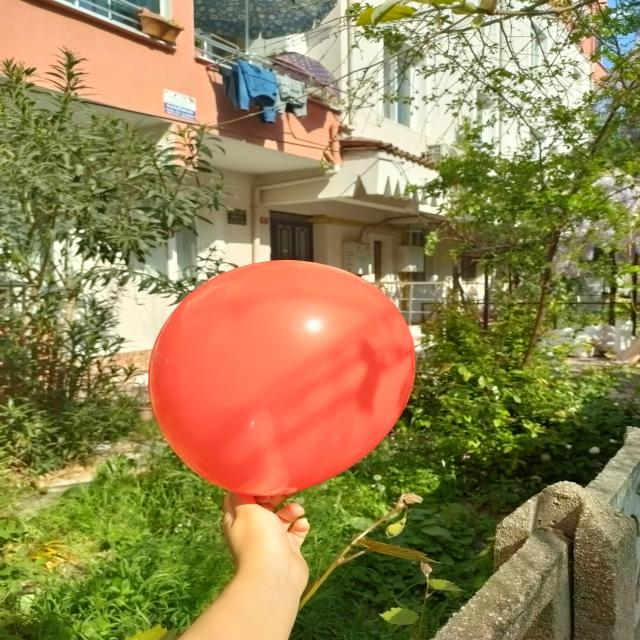red: (150, 261, 416, 498)
